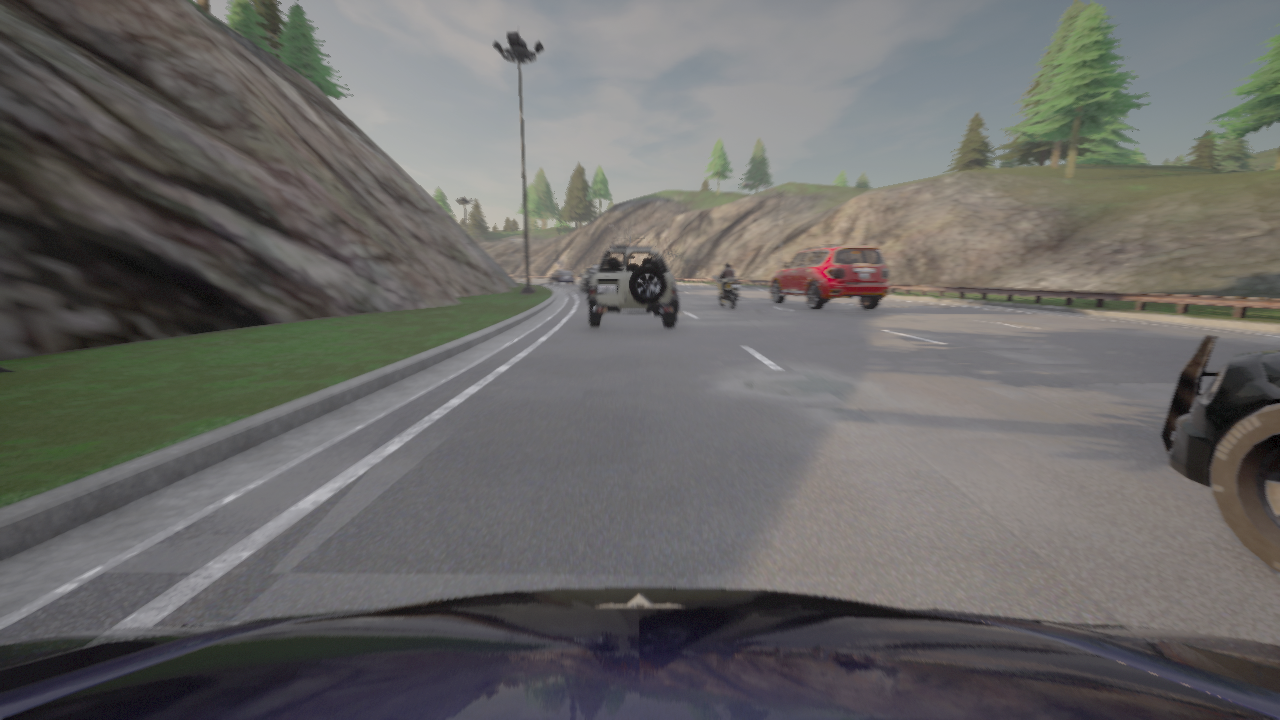cyclist: (0, 588, 1279, 719), (1160, 336, 1279, 573), (770, 246, 888, 310), (587, 245, 678, 327), (712, 275, 739, 310), (578, 268, 596, 292), (549, 270, 575, 285)
